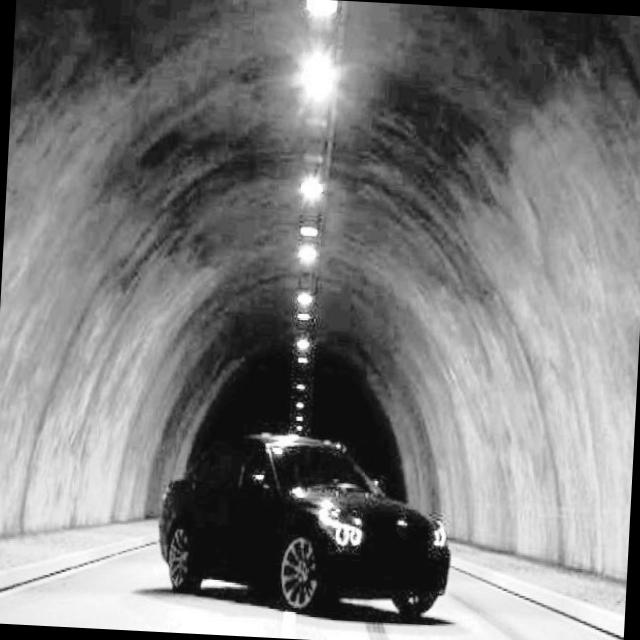Car: (134, 401, 474, 640)
